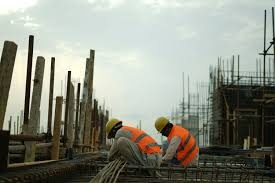hardhat: (104, 117, 121, 140), (155, 116, 171, 133)
person: (99, 115, 160, 175), (153, 116, 207, 176)
safety_vest: (121, 124, 160, 158), (168, 124, 200, 165)
